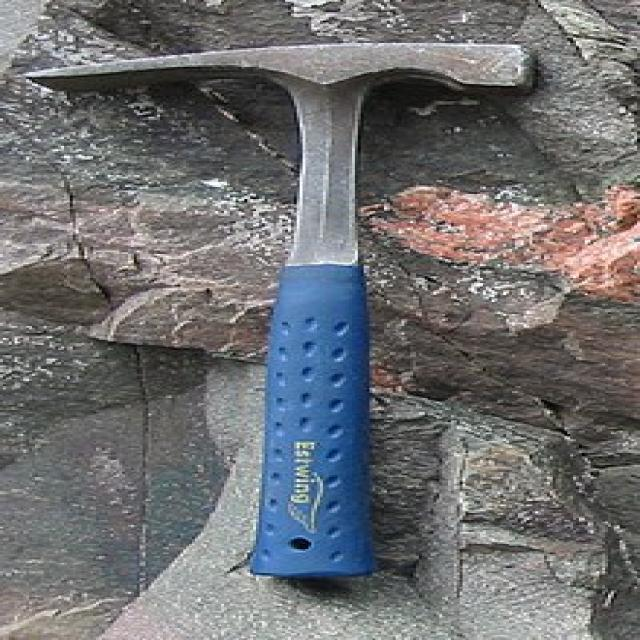hammer: (19, 38, 542, 584)
